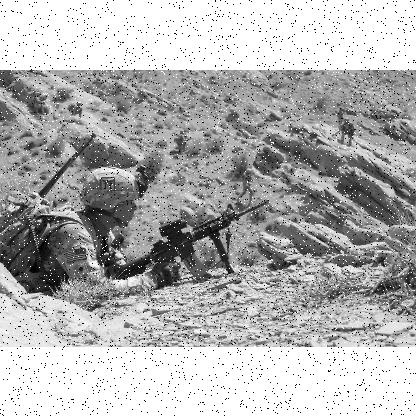gun: (100, 198, 264, 290)
